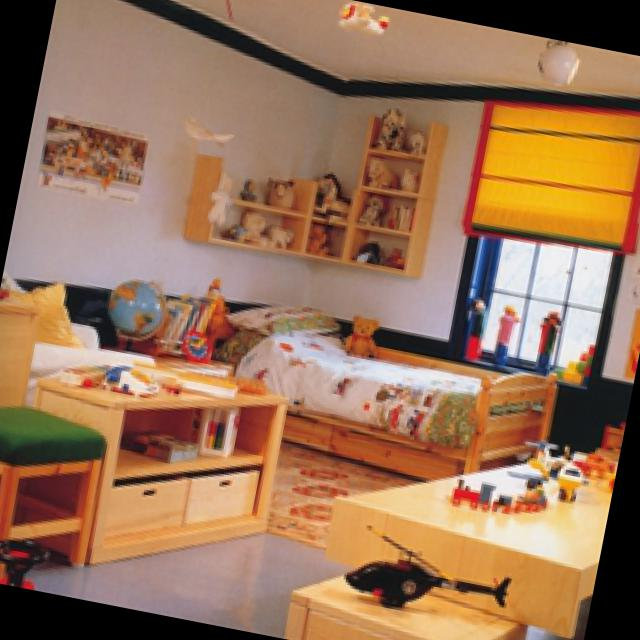2001: (470, 231, 624, 369)
bed -occluded-: (217, 303, 556, 479)
books crop: (163, 294, 220, 352)
box contants: (126, 426, 207, 457)
cabinet door: (284, 565, 532, 640)
ceiling beam: (180, 0, 640, 97)
ceiling lamps: (542, 44, 585, 79)
chair -occluded-: (0, 400, 104, 561)
curtain crop: (468, 100, 640, 250)
doll: (497, 302, 525, 362), (466, 296, 491, 354), (541, 305, 565, 365)
globe: (117, 280, 171, 349)
hanging toy: (340, 1, 400, 29)
mattress: (246, 331, 485, 444)
painting crop: (35, 110, 154, 201)
pillow occluded: (7, 278, 80, 337), (238, 301, 338, 333)
rug -partially obscured-: (277, 443, 422, 544)
shelves crop: (186, 119, 447, 279)
table -X: (325, 453, 617, 635), (41, 365, 283, 555)
teddy bear: (351, 314, 386, 356), (316, 223, 333, 250)
toy crio: (346, 526, 510, 606), (458, 450, 618, 513), (0, 540, 54, 583), (194, 407, 242, 449), (327, 172, 352, 209)
toys: (383, 106, 427, 147), (235, 210, 297, 239), (375, 157, 423, 189), (363, 196, 413, 223), (361, 238, 408, 261), (253, 179, 292, 202)
